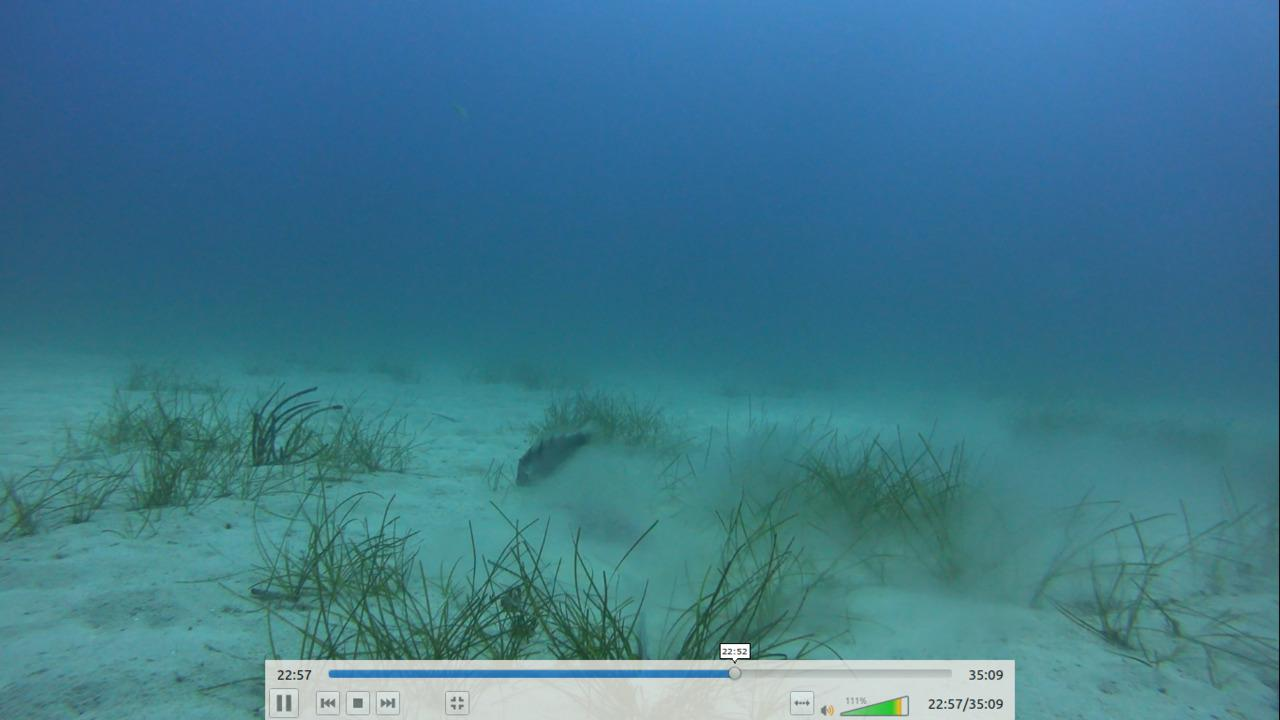raor: (508, 421, 602, 488)
